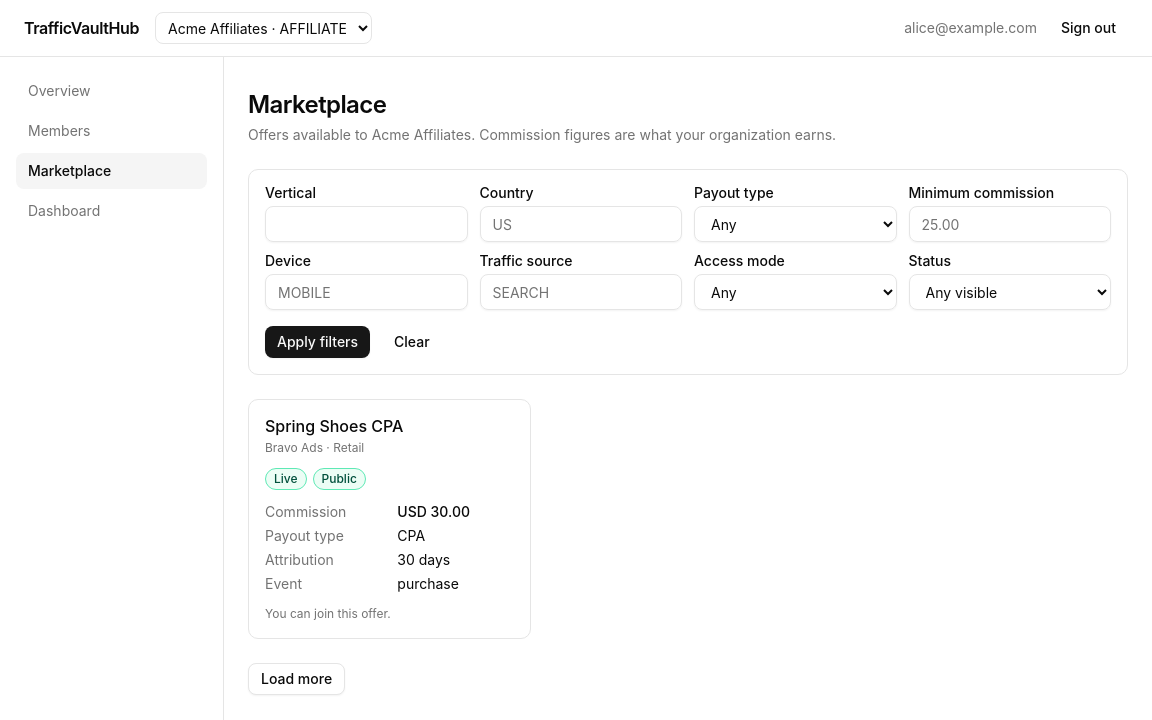
it: affiliate marketplace › /app/:orgId/marketplace › walks next_cursor with 'Load more'
Check: the link "Spring Shoes CPA" is shown, box 265,416 -> 403,436
Click the button "Load more": (297, 679) 248,663 -> 345,695
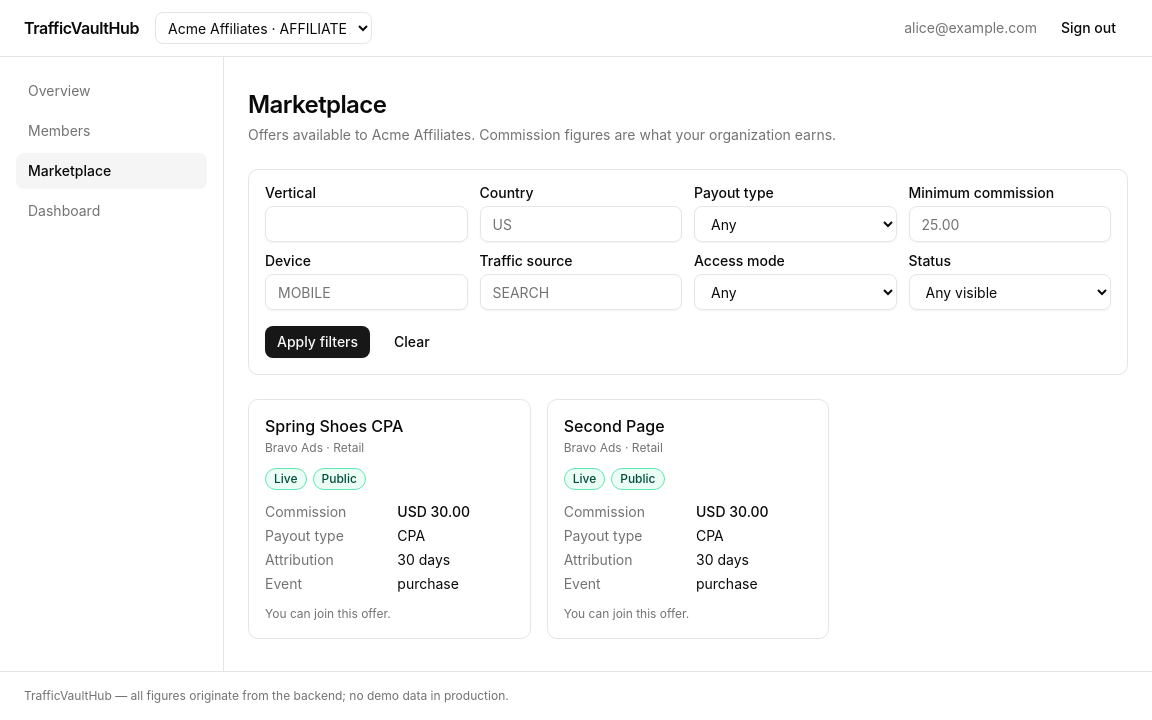
Check: the link "Spring Shoes CPA" is shown, box 265,416 -> 403,436
Check: the link "Second Page" is shown, box 564,416 -> 665,436
